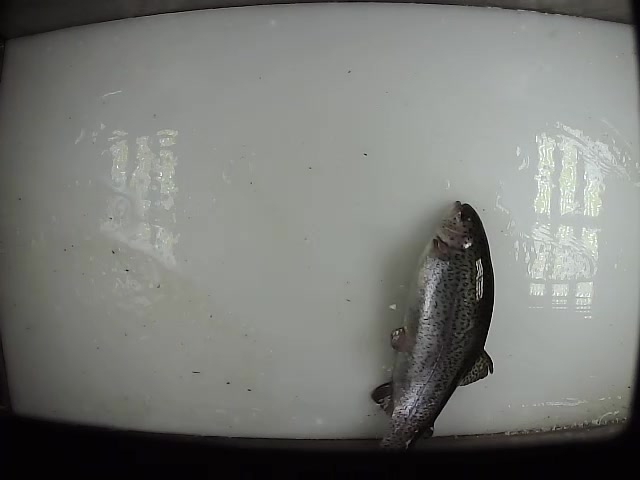fish: (370, 198, 497, 455)
